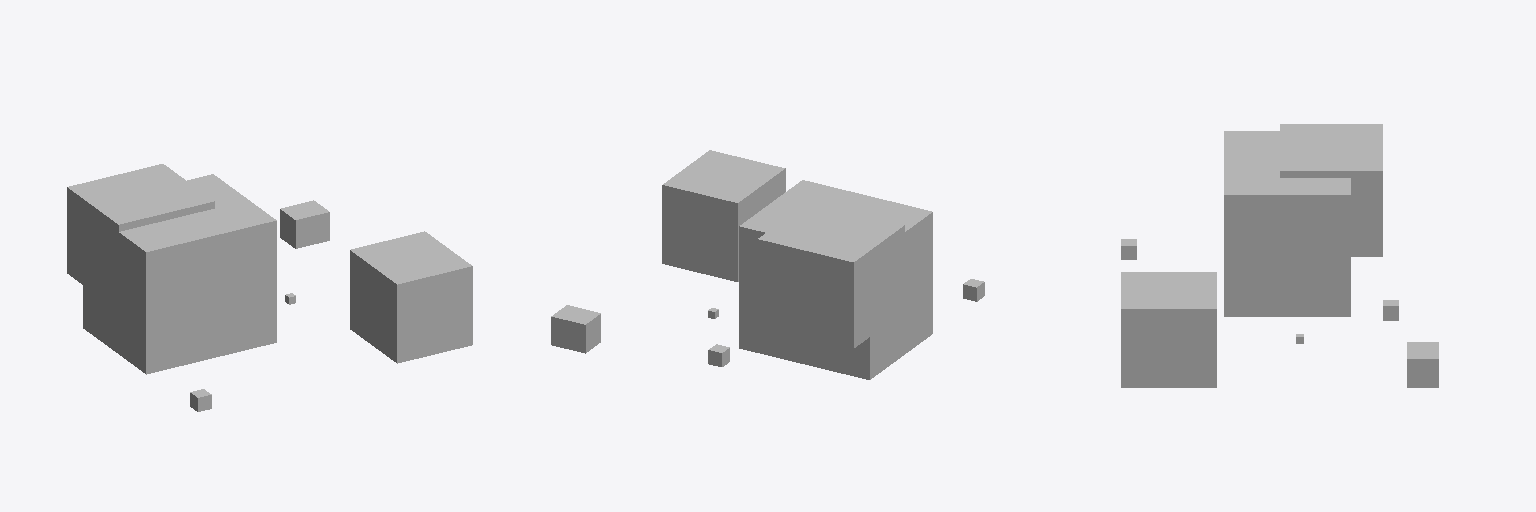
The model's file is stone.obj.
3 views of the same model, side by side, from view 1: azimuth 30°, elevation 25°; view 2: azimuth 150°, elevation 25°; view 3: azimuth 270°, elevation 25° (orthographic).
Parts seen in each view (by area): view 1: stone; view 2: stone; view 3: stone.
Boxes of the visible parts, x1,y1,x2,y2 form: stone: [67, 164, 472, 411]; stone: [551, 150, 984, 379]; stone: [1121, 124, 1438, 387].
Bounding box in the file's own units: 40 × 18 × 40.